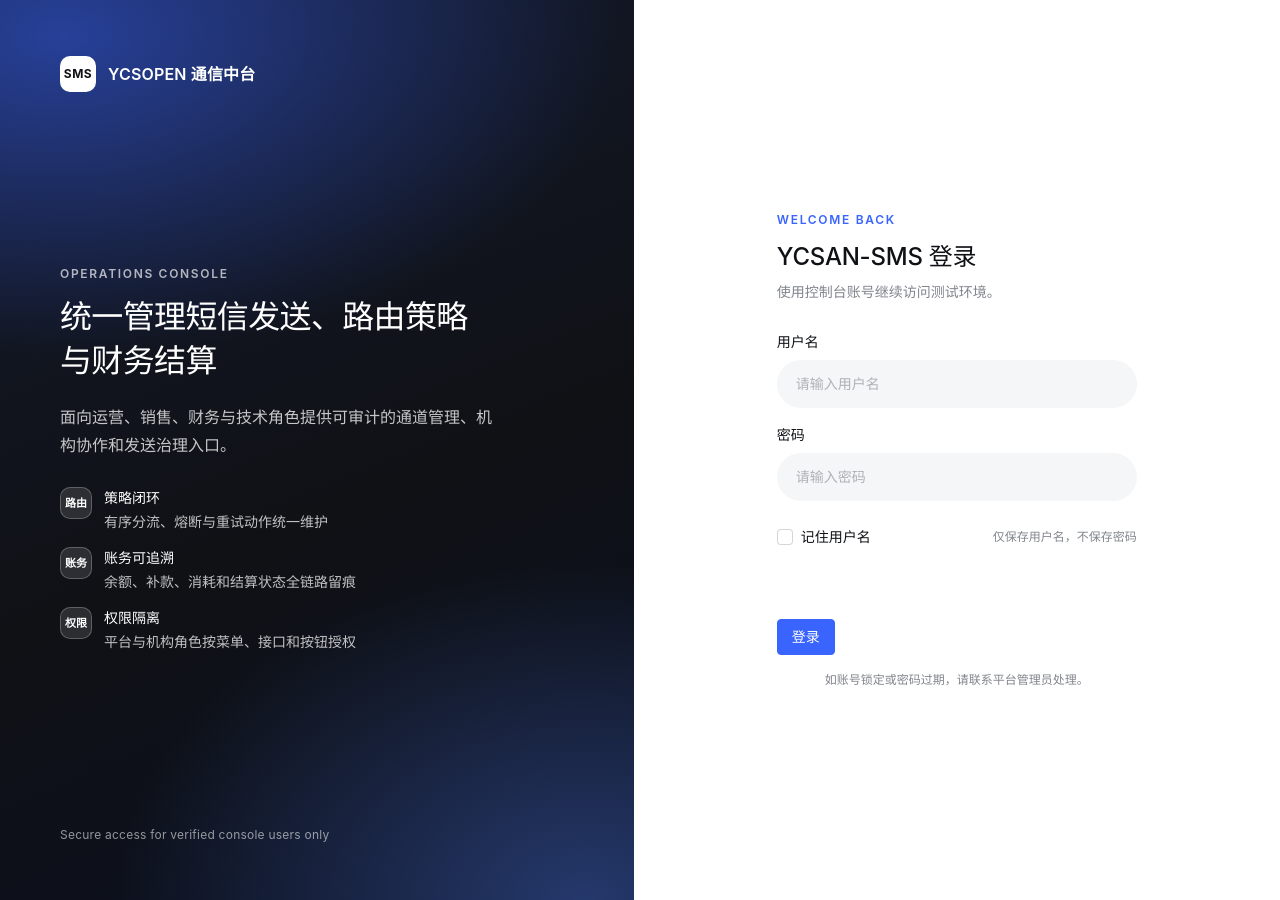
Test: LoginPage remembered username › keeps the error in the reserved slot, clears the password and re-enables submit
Type "admin-user" into the field with test id "shared-auth-login-username". click: (957, 384)
box: [777,360,1137,408]
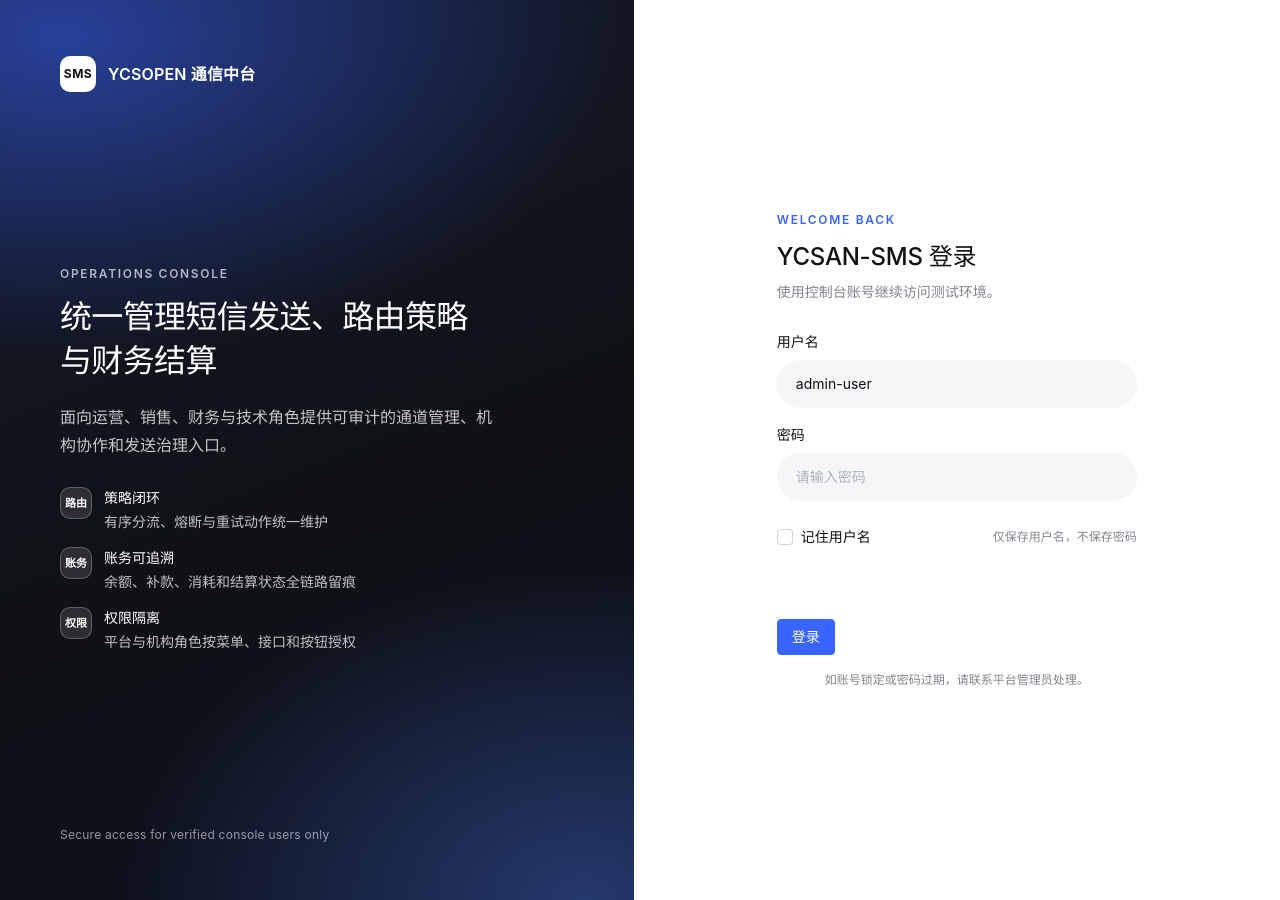
Type "secret-value" into the password field with test id "shared-auth-login-password". click: (957, 477)
box: [777,453,1137,501]
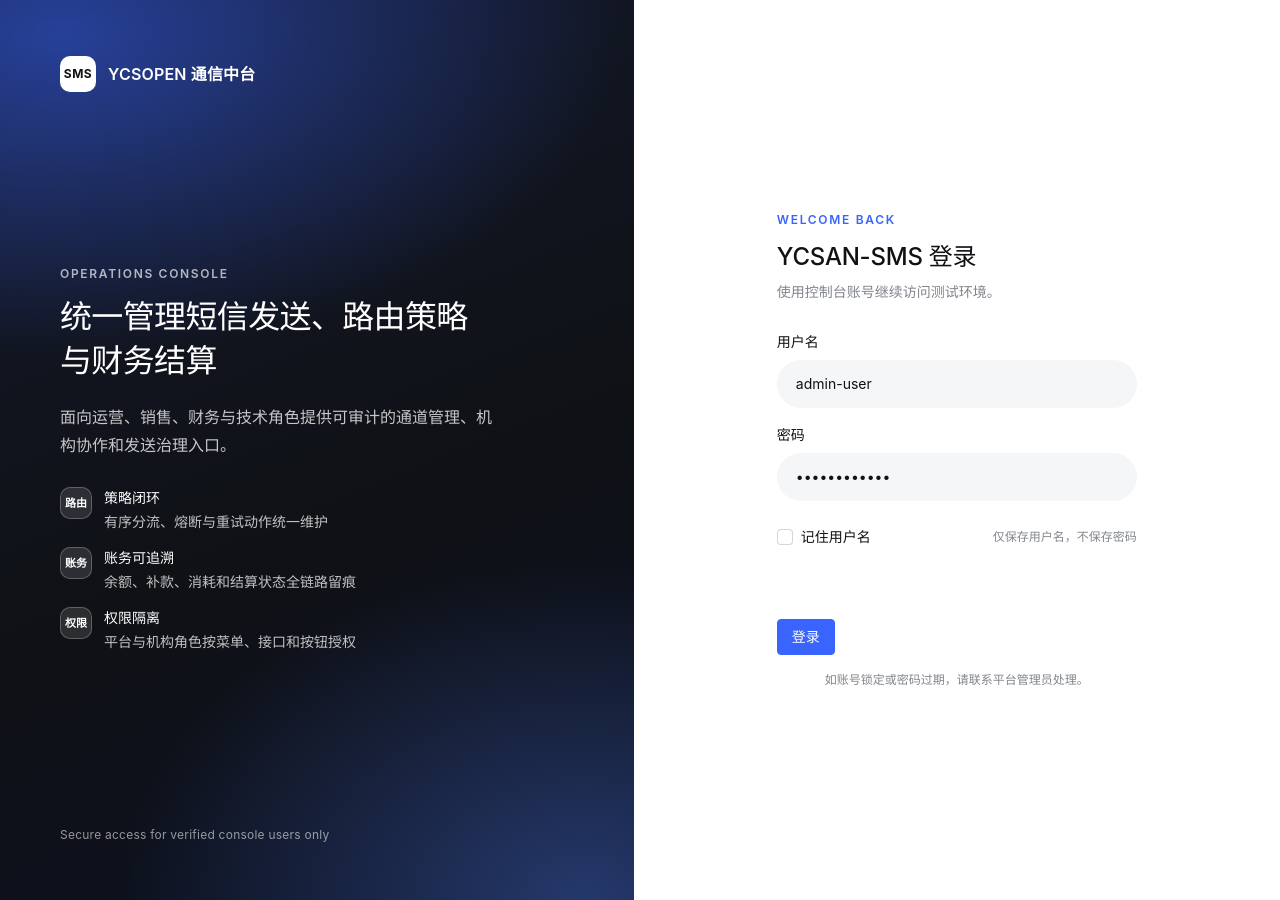
Click the button with test id "admin-console-identity-auth-login-submit". click: click(806, 637)
box: [777,619,835,655]
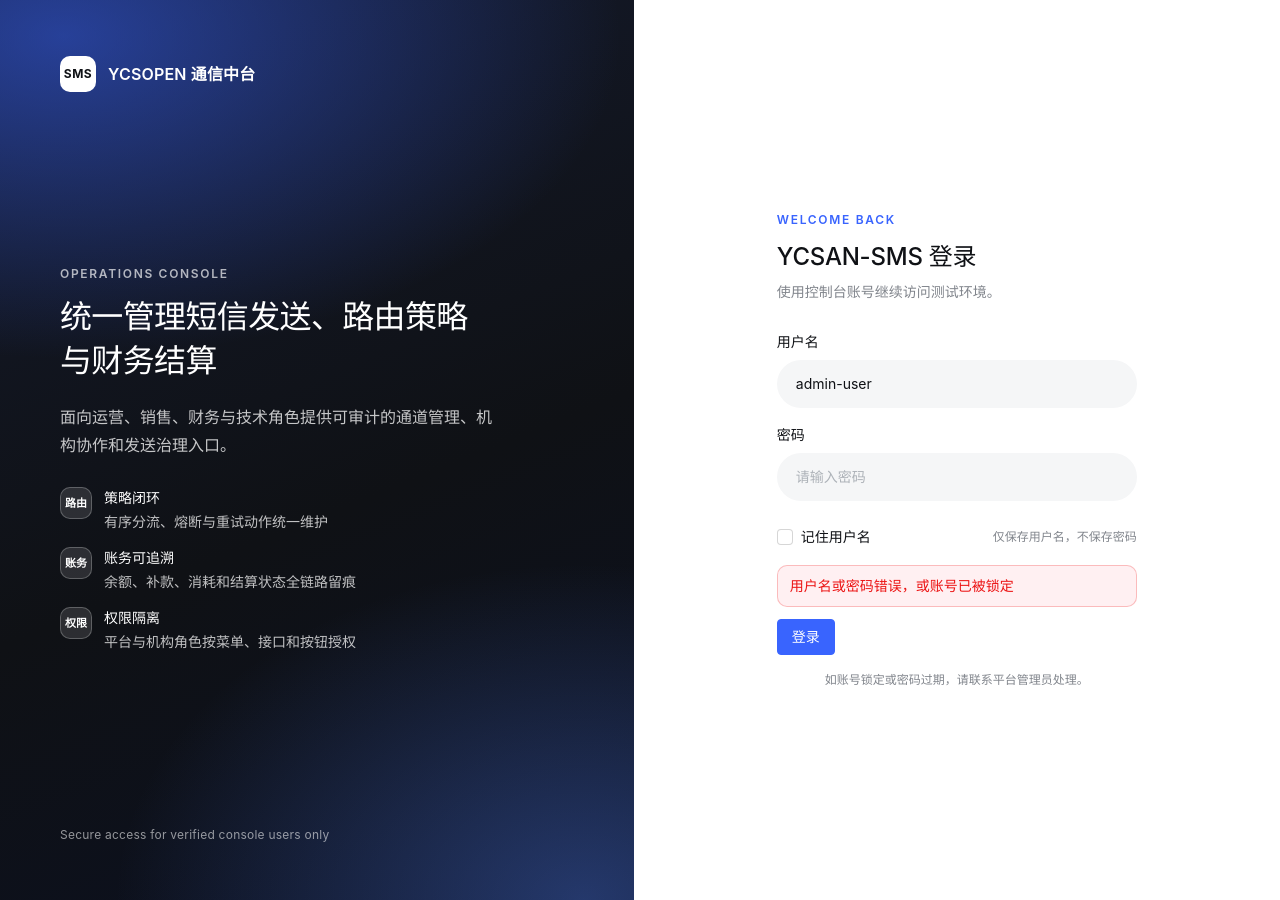
Result: the message "用户名或密码错误，或账号已被锁定" is shown at [777,565,1137,607]
Result: the message with test id "shared-auth-login-error" reads "用户名或密码错误，或账号已被锁定" at [790,577,1014,594]
Result: the password field with test id "shared-auth-login-password" is empty at [777,453,1137,501]
